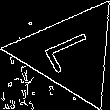L_NE: (38, 28, 103, 78)
